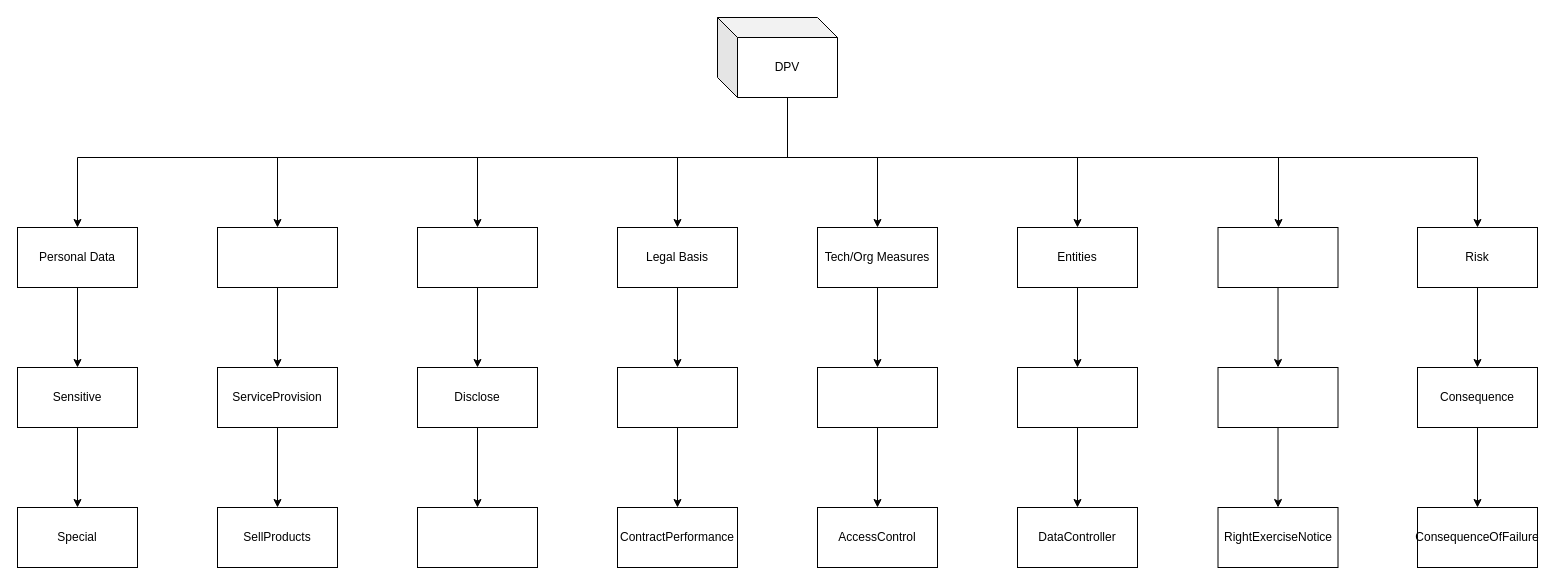
This 1556x585 diagram has some shape labels left out. The shapes that lost their labels are listed below. From the top down, each one's centre as x and y in pixels, then its label:
(x=277, y=257): Purpose
(x=477, y=257): Processing
(x=1277, y=257): Right
(x=677, y=397): Contract
(x=877, y=397): Technical
(x=1077, y=397): LegalEntity
(x=1277, y=397): ActiveRight
(x=477, y=537): Share
